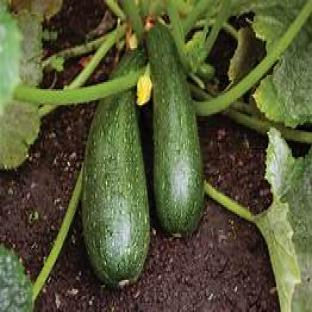Zucchini: (83, 90, 150, 285), (147, 24, 203, 235), (0, 245, 33, 311)
